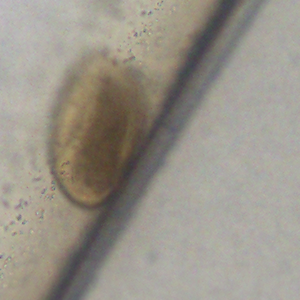Fasciola_hepatica_egg: (45, 43, 149, 211)
